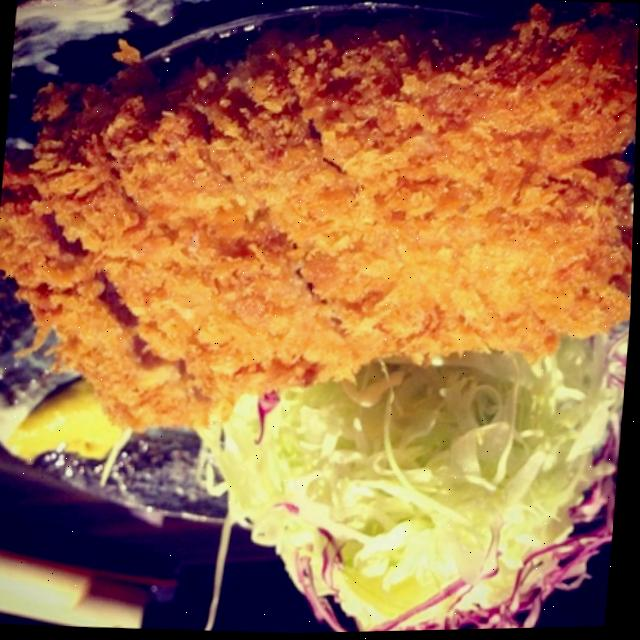牛肉菜式: (0, 0, 640, 635)
